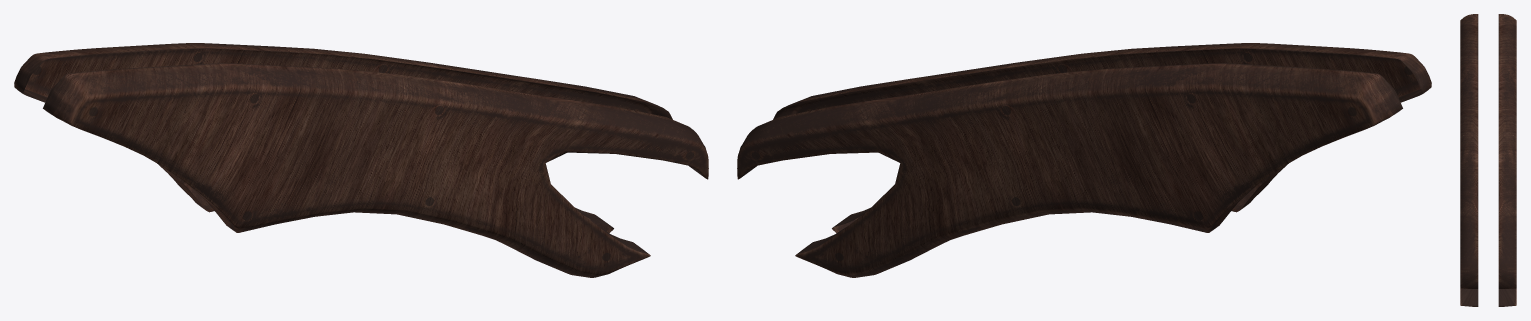
File: 1.2Grip.obj
The picture shows the model from 3 angles, left to right: view 1: azimuth 30°, elevation 25°; view 2: azimuth 150°, elevation 25°; view 3: azimuth 270°, elevation 25°; orthographic projection. The views are drawn at different scales.
Visible parts, largest first — view 1: Grip.009_Plane.019; view 2: Grip.009_Plane.019; view 3: Grip.009_Plane.019.
Part boxes in pixels (<box>): Grip.009_Plane.019: <box>14,43,708,277</box>; Grip.009_Plane.019: <box>737,43,1431,277</box>; Grip.009_Plane.019: <box>1460,14,1516,306</box>.
Size of the model in its own units: 1.44 by 0.6844 by 0.2163.
